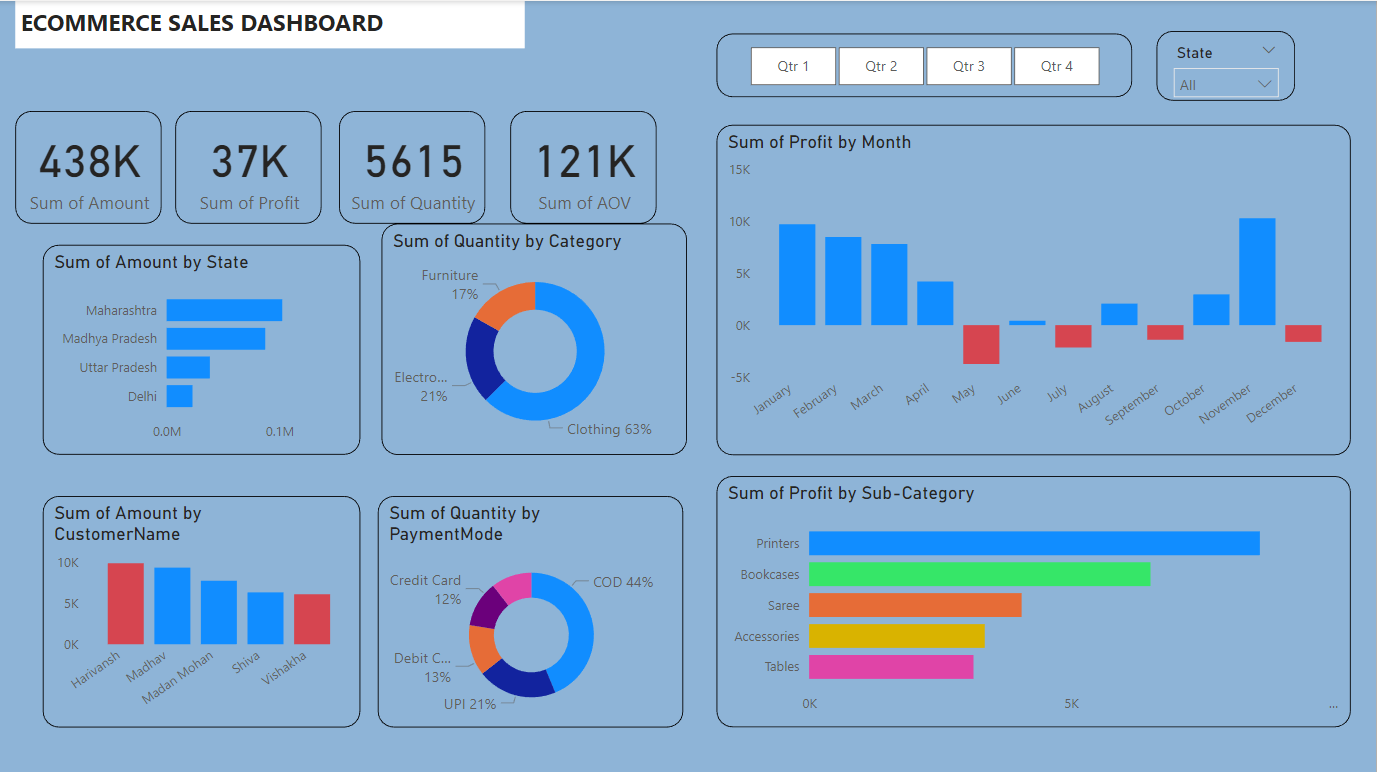

Layout of this report page (visuals, bound fields, positions):
{"tool":"powerbi","page":{"name":"Page 1","canvas":[1280,720],"ordinal":0},"visuals":[{"type":"textbox","box":[15.1,0,473.3,44.2],"z":0},{"type":"columnChart","fields":{"Category":["Orders.Order Date.Variation.Date Hierarchy.Month"],"Y":["Details.Profit"]},"box":[667.4,115.1,589.5,307],"z":1000},{"type":"barChart","fields":{"Category":["Details.Sub-Category"],"Y":["Details.Profit"]},"box":[667.4,441.9,589.5,233.7],"z":2000},{"type":"donutChart","fields":{"Category":["Details.Category"],"Y":["Details.Quantity"]},"box":[355.8,207,283.7,215.1],"z":3000},{"type":"donutChart","fields":{"Category":["Details.PaymentMode"],"Y":["Details.Quantity"]},"box":[352.3,460.5,283.7,215.1],"z":4000},{"type":"card","fields":{"Values":["Details.Amount"]},"box":[15.1,102.3,136,104.7],"z":5000},{"type":"card","fields":{"Values":["Details.Profit"]},"box":[164,102.3,136,104.7],"z":6000},{"type":"card","fields":{"Values":["Details.Quantity"]},"box":[316.3,102.3,136,104.7],"z":7000},{"type":"card","fields":{"Values":["Details.AOV"]},"box":[475.6,102.3,136,104.7],"z":8000},{"type":"barChart","fields":{"Category":["Orders.State"],"Y":["Details.Amount"]},"box":[40.7,226.7,295.3,195.3],"z":9000},{"type":"columnChart","fields":{"Category":["Orders.CustomerName"],"Y":["Details.Amount"]},"box":[41,460,295,215],"z":10000},{"type":"slicer","fields":{"Values":["Orders.Order Date.Variation.Date Hierarchy.Quarter"]},"box":[667.4,30.2,386,59.3],"z":11000},{"type":"slicer","fields":{"Values":["Orders.State"]},"box":[1075.6,27.9,129.1,65.1],"z":12000}]}

Visuals, with their boxes in screenshot pixels (x1, y1, x2, y2), scaled from the page's 1280x720 canvas onto the 1377x772 screenshot:
textbox: region(16, 0, 525, 47)
columnChart - Orders.Order Date.Variation.Date Hierarchy.Month x Details.Profit: region(718, 123, 1352, 453)
barChart - Details.Sub-Category x Details.Profit: region(718, 474, 1352, 724)
donutChart - Details.Category x Details.Quantity: region(383, 222, 688, 453)
donutChart - Details.PaymentMode x Details.Quantity: region(379, 494, 684, 724)
card - Details.Amount: region(16, 110, 163, 222)
card - Details.Profit: region(176, 110, 323, 222)
card - Details.Quantity: region(340, 110, 487, 222)
card - Details.AOV: region(512, 110, 658, 222)
barChart - Orders.State x Details.Amount: region(44, 243, 361, 452)
columnChart - Orders.CustomerName x Details.Amount: region(44, 493, 361, 724)
slicer - Orders.Order Date.Variation.Date Hierarchy.Quarter: region(718, 32, 1133, 96)
slicer - Orders.State: region(1157, 30, 1296, 100)
